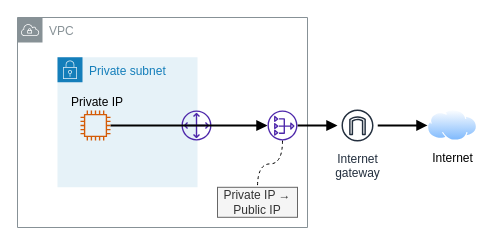
This 495x245 diagram has some shape labels left out. Each missing label, with the centre of its shape:
Instance: point (95, 125)
NAT GW: point (282, 125)
가상 라우터: point (196, 125)
